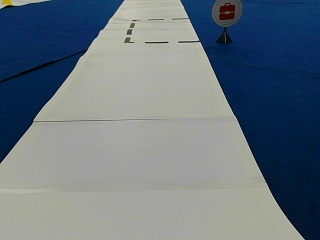company: (211, 0, 242, 26)
